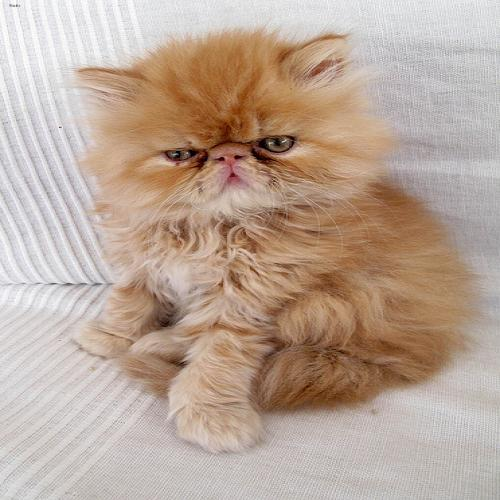persian: (69, 19, 382, 239)
